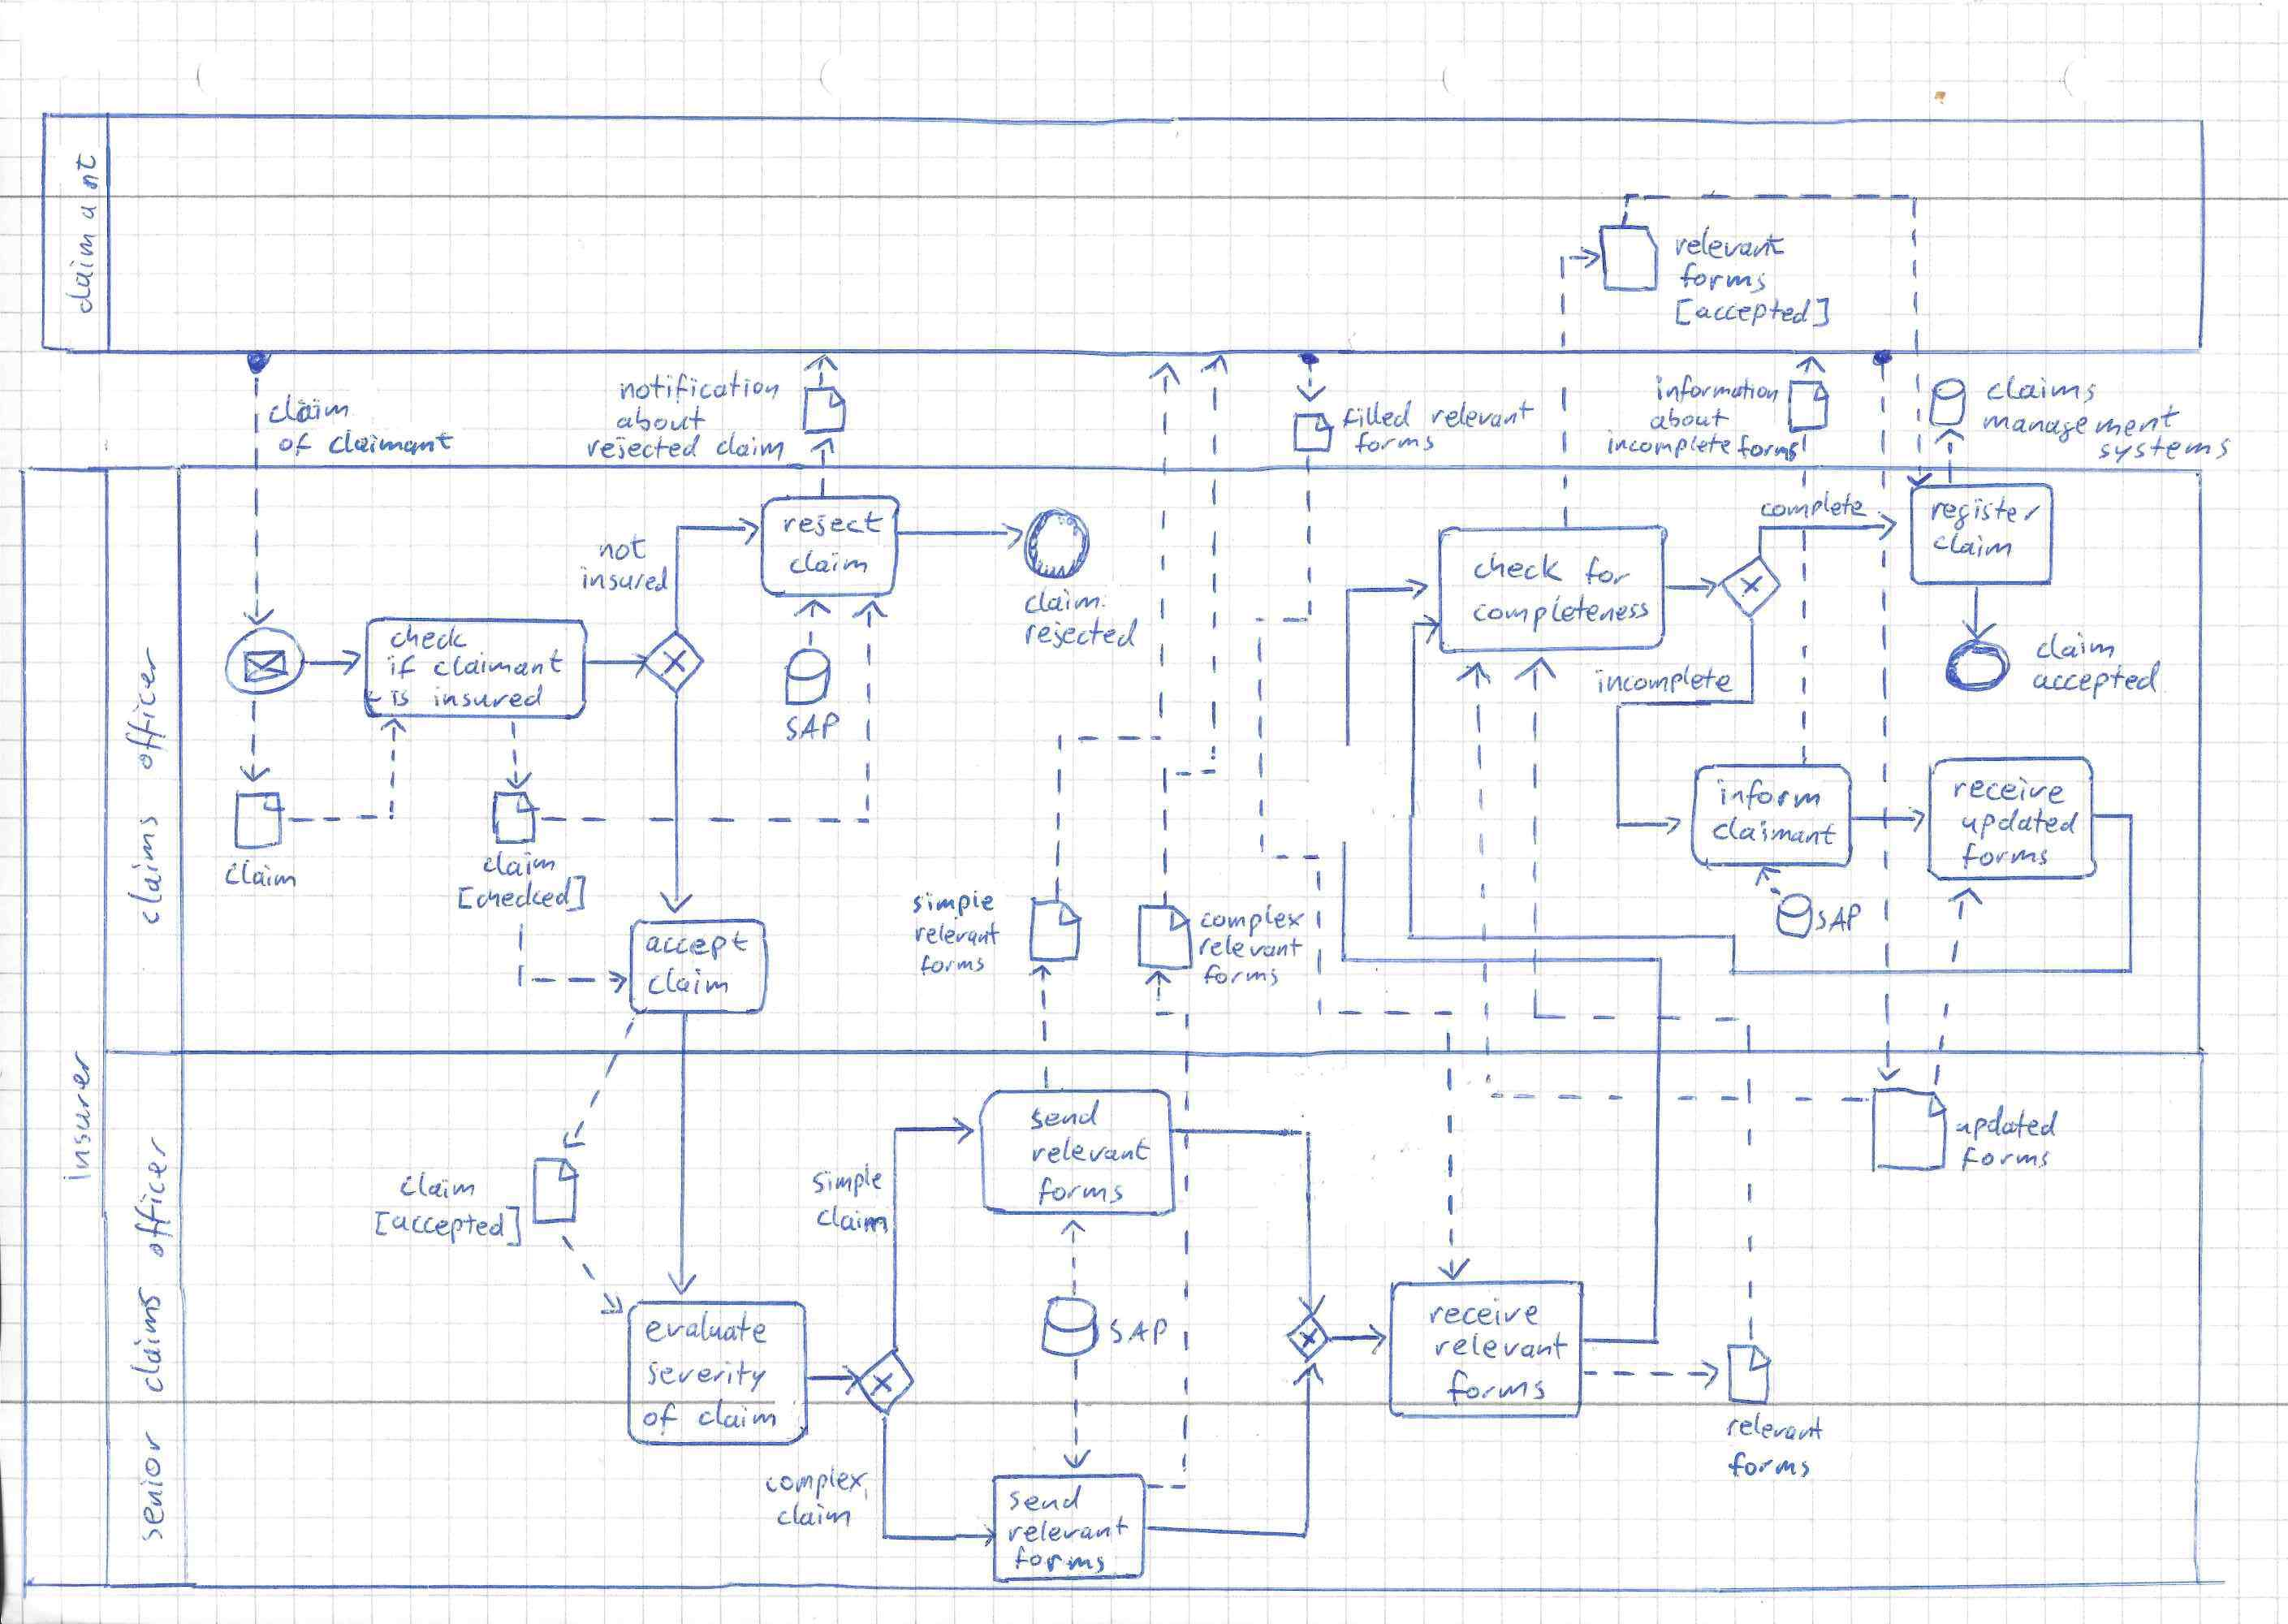Insurer: (62, 1049, 97, 1186)
SAP: (1107, 1316, 1172, 1346), (1814, 902, 1863, 939), (782, 712, 842, 742)
Severity: (643, 1357, 770, 1392)
[accepted]: (369, 1204, 527, 1248), (1671, 295, 1833, 327)
[checked]: (455, 874, 589, 919)
about: (615, 406, 710, 434), (1645, 406, 1733, 432)
accept: (643, 930, 750, 961)
accepted: (2031, 659, 2163, 698)
check: (1466, 548, 1569, 587), (390, 624, 471, 650)
claim: (645, 967, 733, 1000), (478, 847, 566, 881), (698, 1397, 780, 1432), (2031, 629, 2118, 663), (264, 395, 353, 427), (787, 547, 872, 578), (812, 1202, 889, 1236), (775, 1501, 859, 1531), (397, 1172, 481, 1202), (1021, 587, 1105, 617), (225, 856, 299, 889), (1931, 531, 2017, 559), (713, 432, 789, 460)
claimant: (65, 139, 102, 315), (325, 425, 457, 460), (1712, 814, 1838, 847), (434, 649, 564, 678)
claims: (127, 812, 169, 926), (128, 1283, 169, 1396), (1982, 374, 2102, 406)
complete: (1759, 487, 1870, 520)
completeness: (1469, 594, 1648, 633)
complex: (764, 1464, 868, 1499), (1197, 907, 1304, 937)
evaluate: (645, 1309, 771, 1348)
filled: (1339, 399, 1415, 434)
for: (1582, 555, 1634, 591)
forms: (1444, 1367, 1550, 1406), (1676, 260, 1770, 297), (1956, 840, 2051, 874), (1035, 1176, 1125, 1207), (1961, 1144, 2053, 1174), (1727, 1452, 1814, 1482), (1012, 1548, 1105, 1575), (1353, 431, 1439, 457), (917, 953, 991, 979), (1202, 963, 1279, 988), (1738, 436, 1801, 462)
if: (385, 654, 420, 680)
incomplete: (1590, 663, 1736, 696), (1599, 427, 1734, 459)
inform: (1710, 775, 1824, 812)
information: (1652, 374, 1782, 406)
insured: (429, 684, 545, 708), (573, 564, 673, 592)
is: (385, 687, 418, 710)
management: (1979, 401, 2181, 443)
not: (596, 531, 648, 566)
notification: (615, 371, 784, 406)
of: (641, 1403, 677, 1436), (276, 432, 315, 459)
officer: (130, 1135, 176, 1258), (123, 645, 163, 770)
receive: (1427, 1295, 1545, 1329), (1949, 777, 2065, 807)
register: (1928, 496, 2042, 531)
reject: (780, 508, 884, 541)
rejected: (1023, 617, 1144, 652), (583, 434, 706, 460)
relevant: (1432, 1330, 1571, 1362), (1668, 223, 1785, 260), (1427, 397, 1538, 432), (1724, 1410, 1828, 1445), (1007, 1517, 1130, 1545), (1032, 1137, 1153, 1165), (1197, 933, 1304, 960), (912, 919, 1002, 949)
send: (1026, 1098, 1102, 1130), (1005, 1485, 1084, 1515)
senior: (130, 1417, 172, 1547)
simple: (810, 1162, 887, 1199), (910, 888, 995, 919)
systems: (2096, 436, 2232, 464)
updated: (1959, 807, 2081, 842), (1954, 1107, 2063, 1144)
